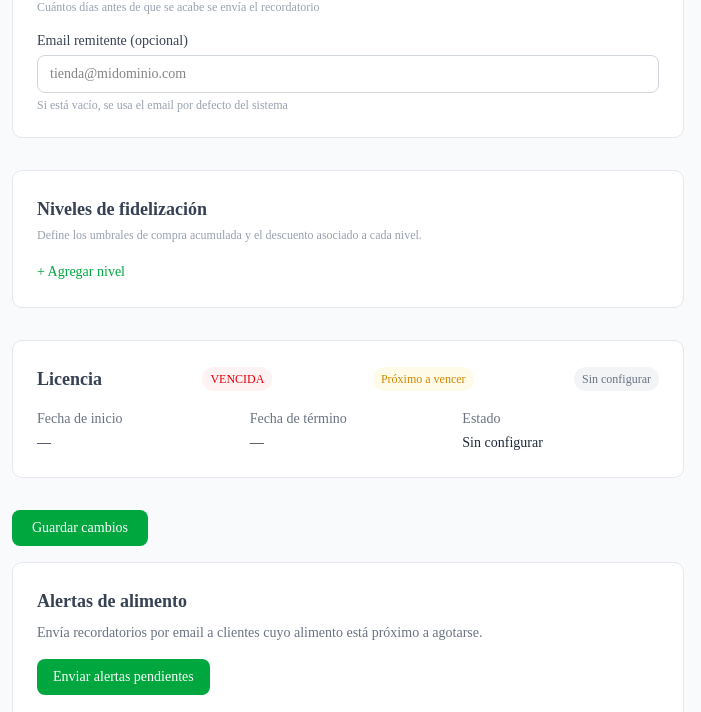
Test: SettingsPage — datos obligatorios de la tienda (C-73) › C-73: el error del servidor (RUT inválido) se muestra en pantalla
This screenshot has width=701, height=712.
(page scrolled)
Click the button "Guardar cambios" at (80, 528), box [12,510,148,546]
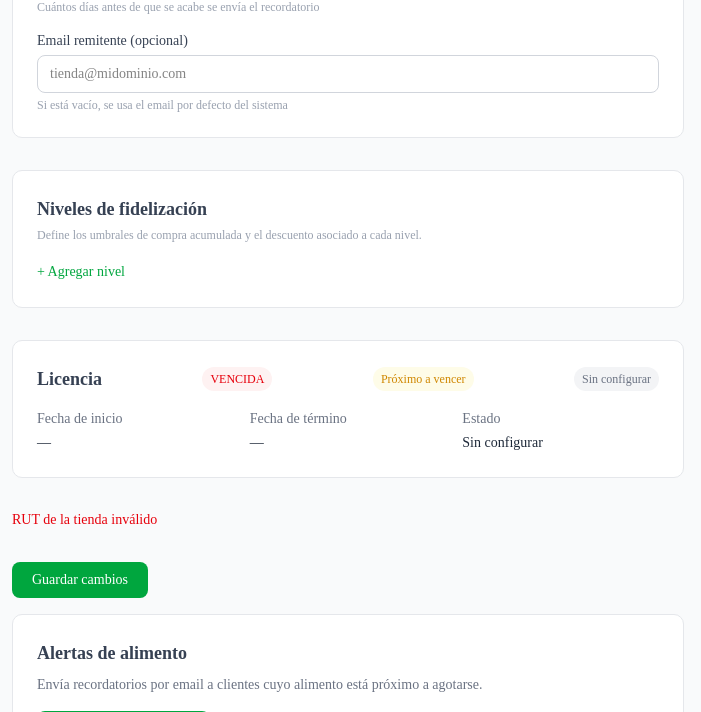
Now the text "RUT de la tienda inválido" is shown, box [12,512,157,527]
